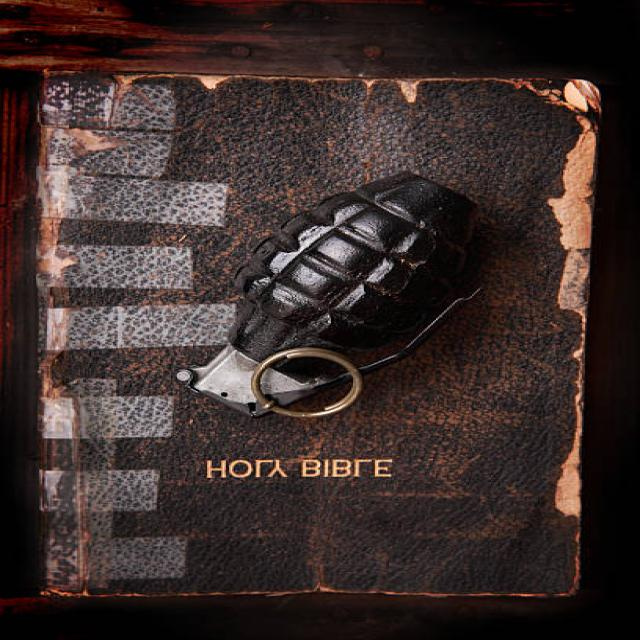grenade: (174, 173, 500, 425)
